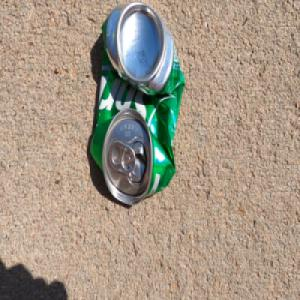SodaCan: (88, 0, 186, 206)
